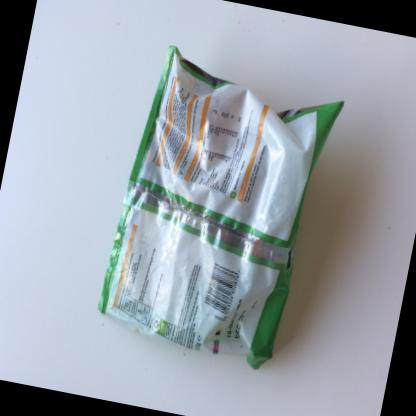Plastic: (97, 44, 344, 368)
